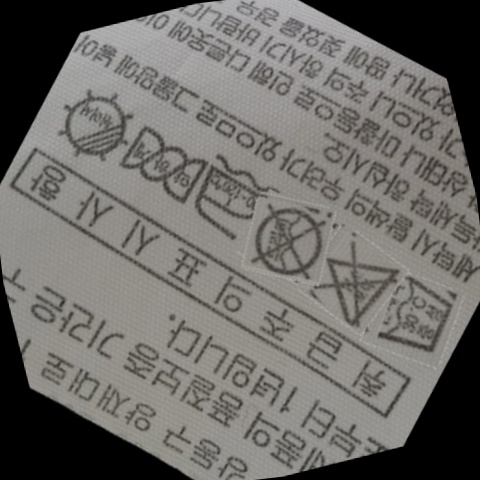DN_dry_clean: (247, 197, 335, 286)
dry_flat_in_shade: (57, 84, 143, 168)
hand_wash: (375, 269, 466, 368)
iron_low: (185, 155, 274, 248)
non_chlorine_bleach: (316, 237, 408, 327)
wring: (121, 111, 217, 211)
